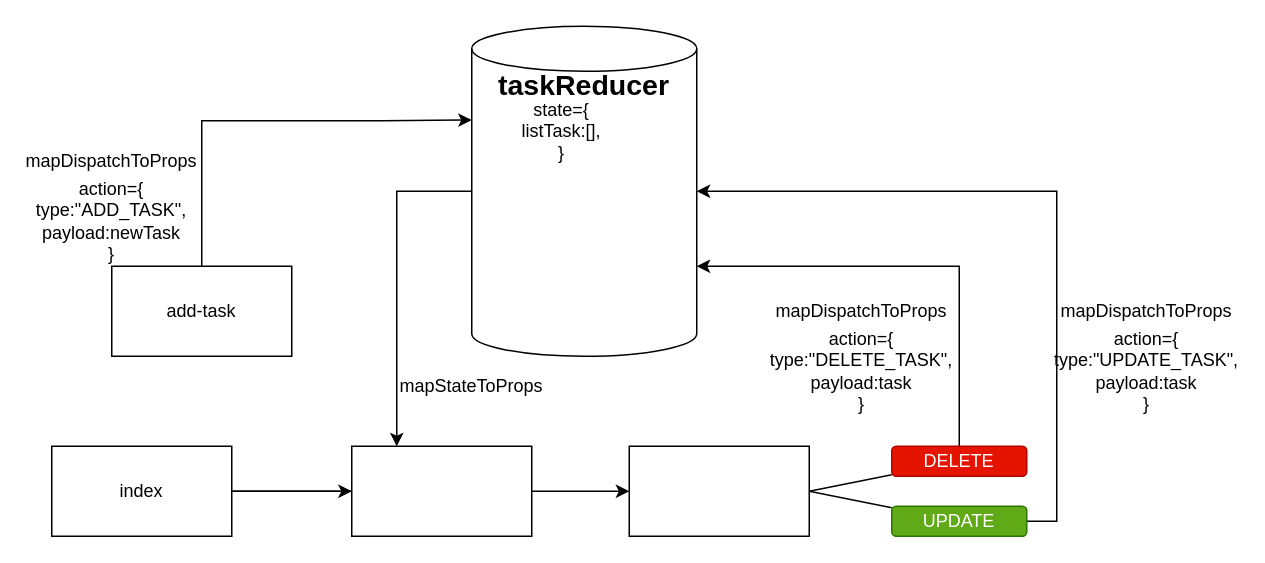
Some shapes in this 1265 by 563 pixel diagram are drawn without their labels. The shapes that lost their labels are listed below. From the top down, each one's box as (x1, y1, x2, y2) in pixels, then its label:
(350, 445, 532, 536): list-task
(628, 445, 809, 536): item-task
